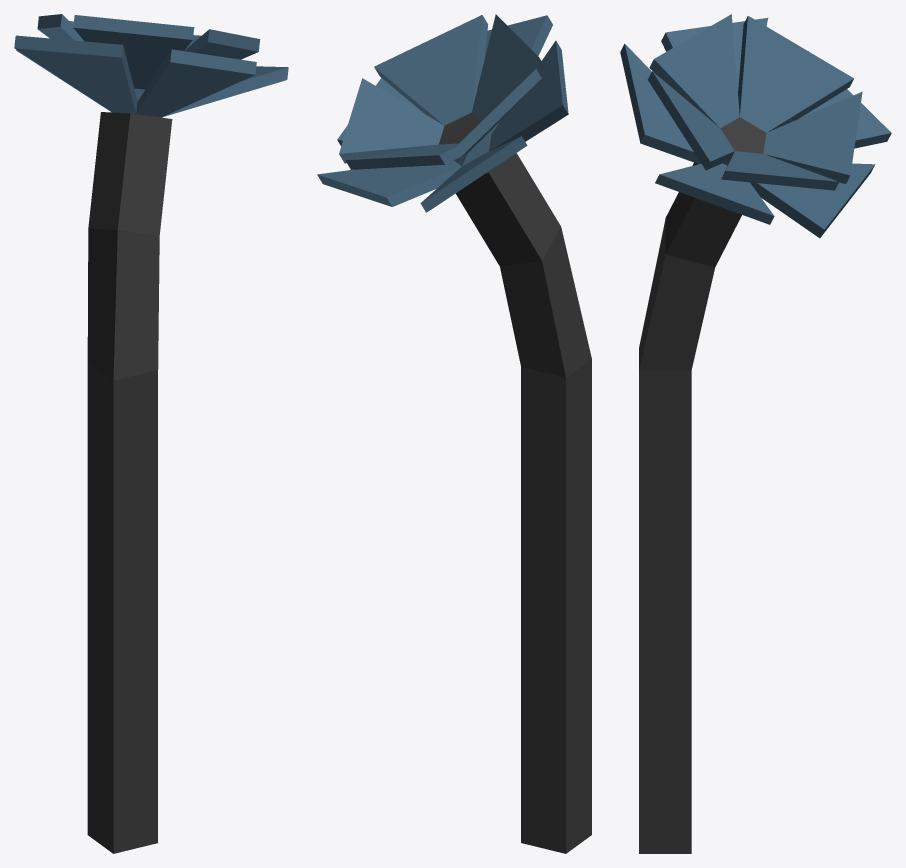
Rendered from Flower_0.fbx.
3 views of the same model, side by side, from view 1: azimuth 30°, elevation 25°; view 2: azimuth 150°, elevation 25°; view 3: azimuth 270°, elevation 25° (orthographic). The views are drawn at different scales.
Parts seen in each view (by area): view 1: Cube.011; view 2: Cube.011; view 3: Cube.011.
Part boxes in pixels (<box>): Cube.011: <box>14,14,288,853</box>; Cube.011: <box>317,14,591,853</box>; Cube.011: <box>620,14,891,853</box>.
Bounding box in the file's own units: 50.36 × 172 × 51.59.
